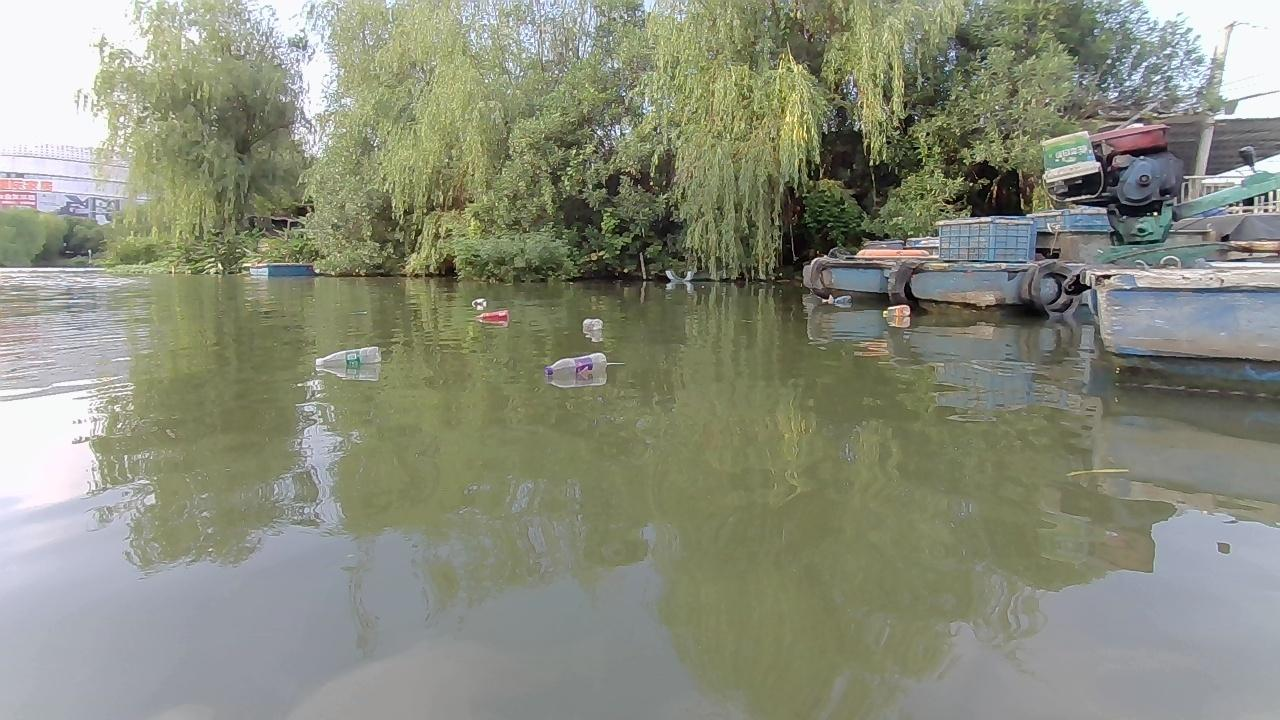bottle: (314, 344, 382, 372), (543, 350, 604, 379), (473, 307, 511, 329), (881, 298, 911, 324), (585, 314, 607, 334), (471, 298, 491, 310), (831, 294, 848, 307)
